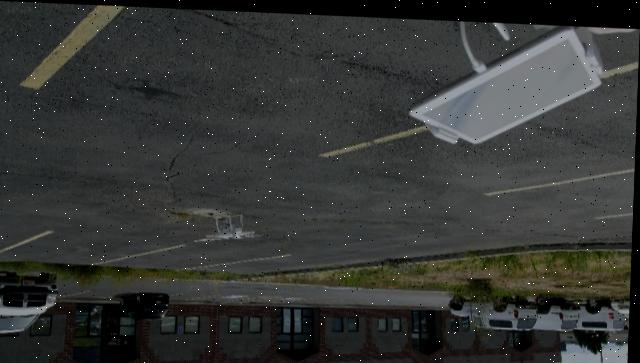drone: (206, 211, 260, 243)
